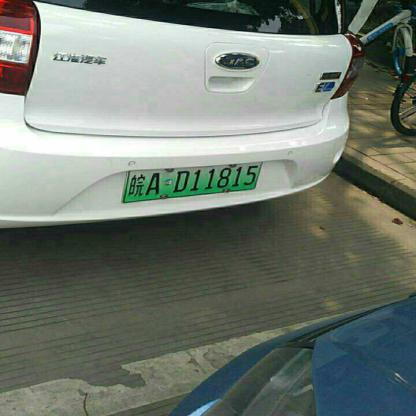lp: (123, 162, 264, 202)
